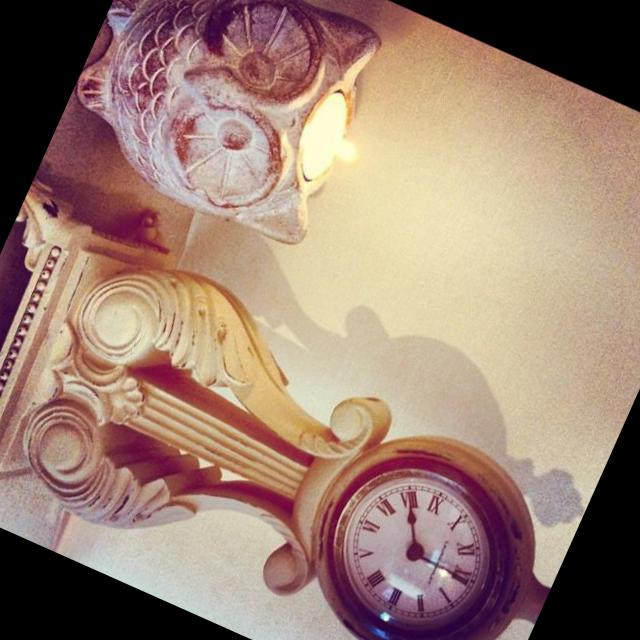clock: (270, 400, 587, 640)
